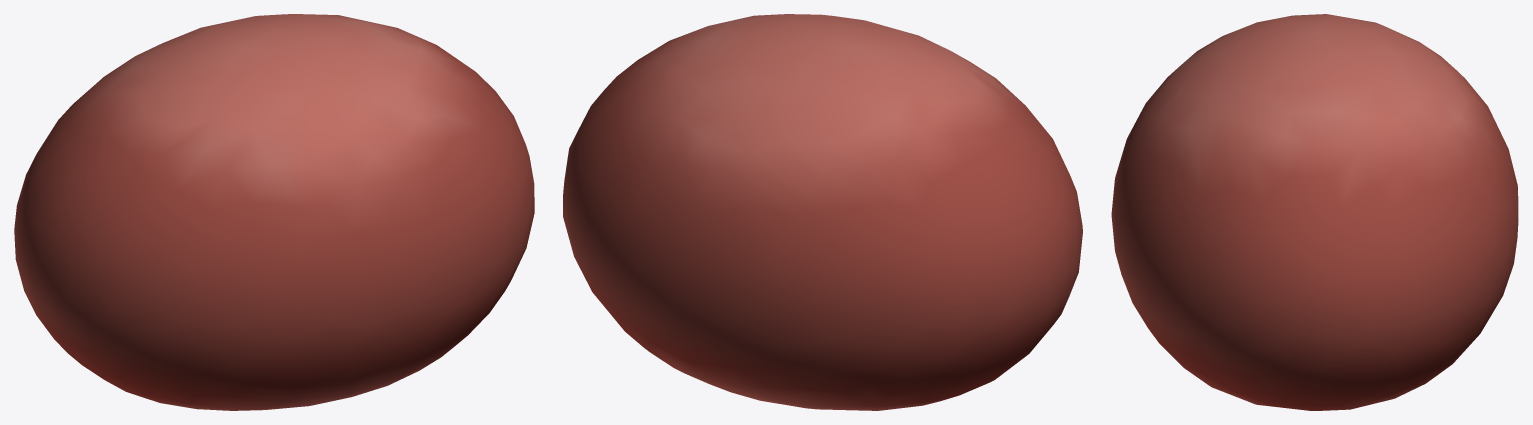
Rendered from thit_nguoi.glb.
3 views of the same model, side by side, from view 1: azimuth 30°, elevation 25°; view 2: azimuth 150°, elevation 25°; view 3: azimuth 270°, elevation 25° (orthographic). The views are drawn at different scales.
Parts seen in each view (by area): view 1: thit_nguoi; view 2: thit_nguoi; view 3: thit_nguoi.
Boxes of the visible parts, box(x1,y1,x2,y2) form: thit_nguoi: box(14, 14, 534, 410); thit_nguoi: box(563, 14, 1082, 410); thit_nguoi: box(1111, 14, 1518, 410).
Bounding box in the file's own units: 0.1398 × 0.0928 × 0.1098.
